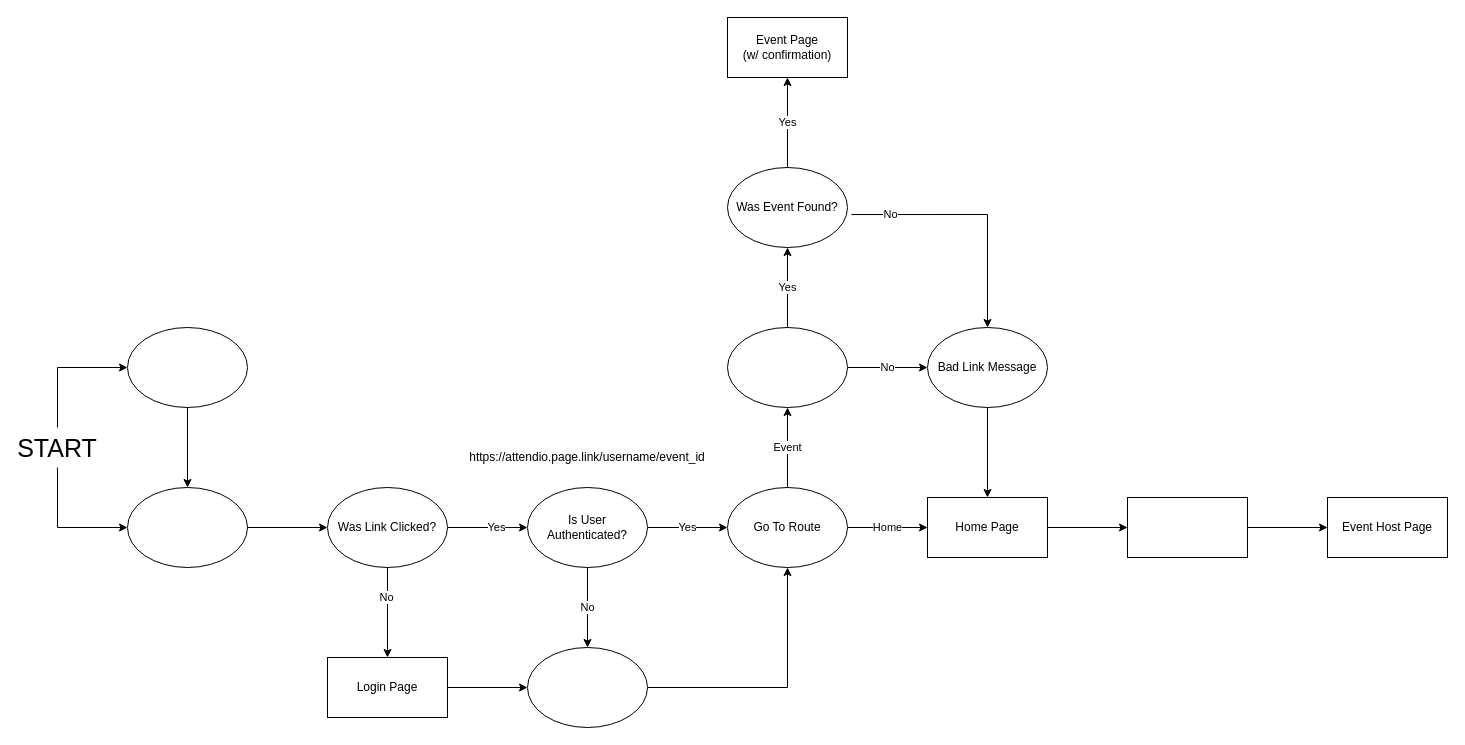
Image size: 1465x745. Some labels were removed from this diagram. The centre of each missing label's shape, as x and y in pixels:
App Opened: pixel 187 527
Authenticate User: pixel 587 687
Create Event Page: pixel 1187 527
Deep Link Clicked: pixel 187 367
Was Username Found?: pixel 787 367
